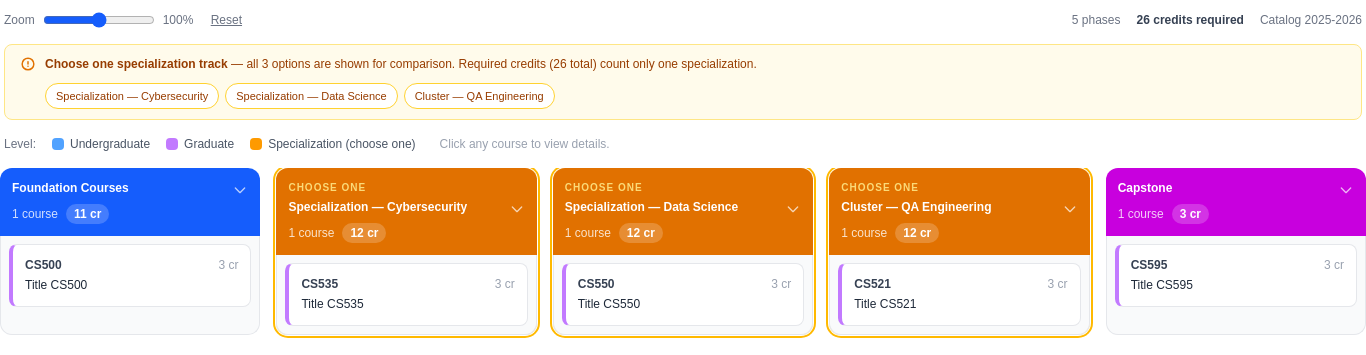
RoadmapCanvas specialization tracks › switches directly from one track to another
Click the button "Specialization — Data Science": [311, 96] box [225,82,398,109]
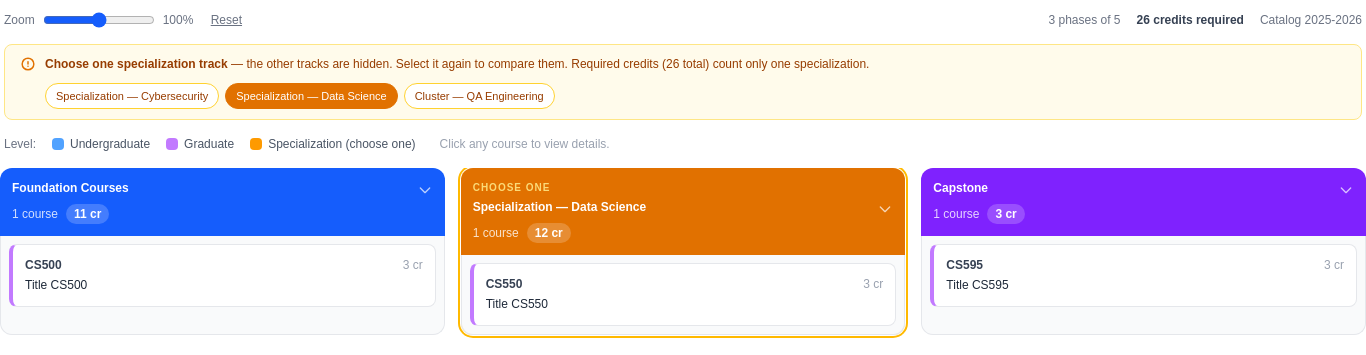
Click the button "Cluster — QA Engineering": [479, 96] box [404,82,555,109]
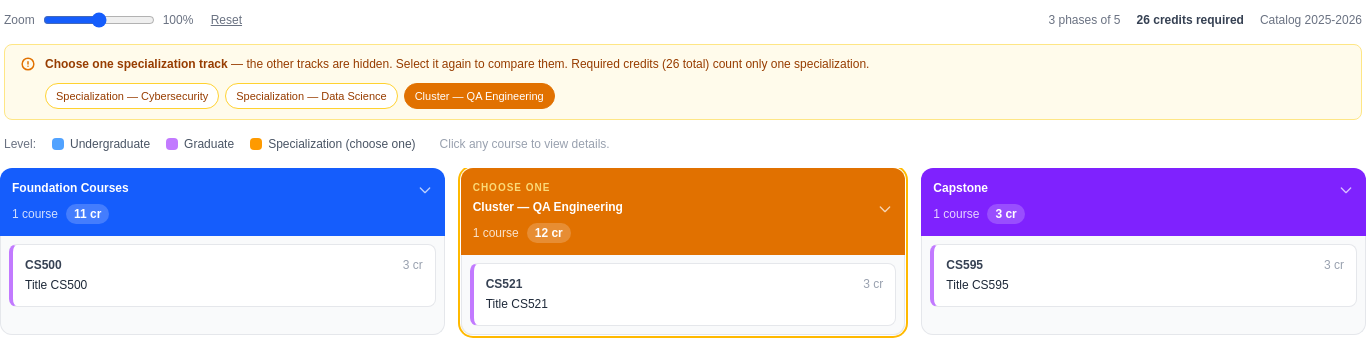
Expected: the text "CS521" is shown, [486,276,522,292]
Expected: the link "CS550" is gone
